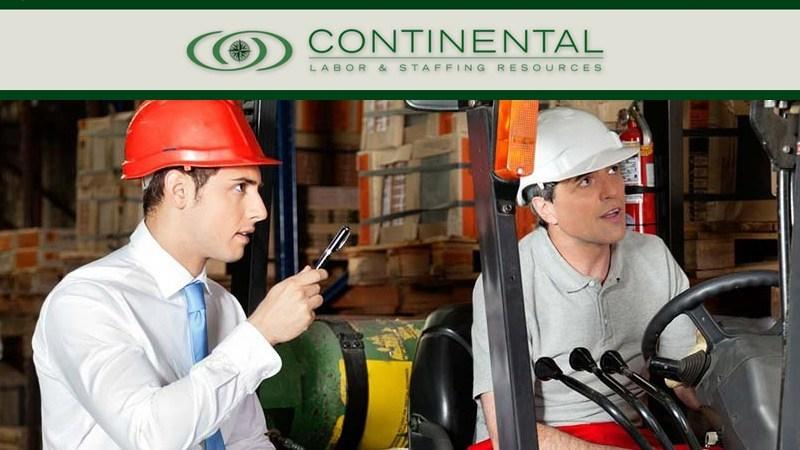helmet: (121, 100, 284, 184), (517, 108, 642, 208)
